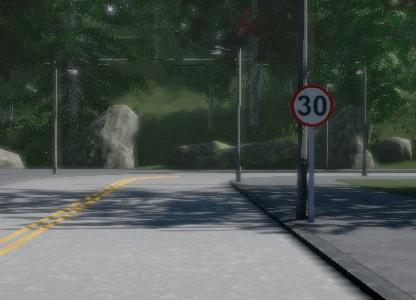Speed_30: (287, 83, 336, 129)
